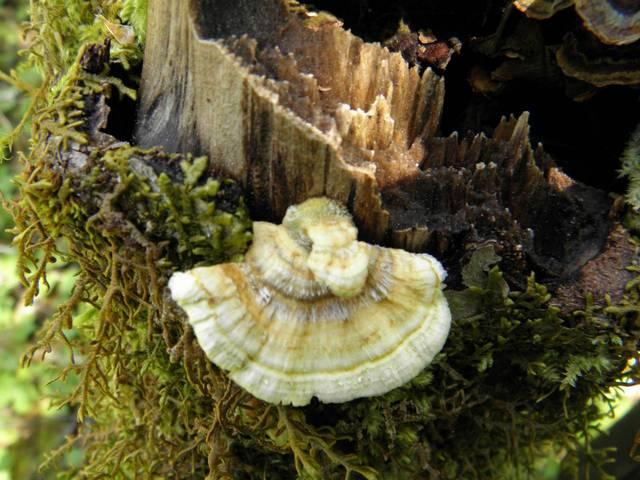poisonous_mushroom: (166, 195, 452, 407)
